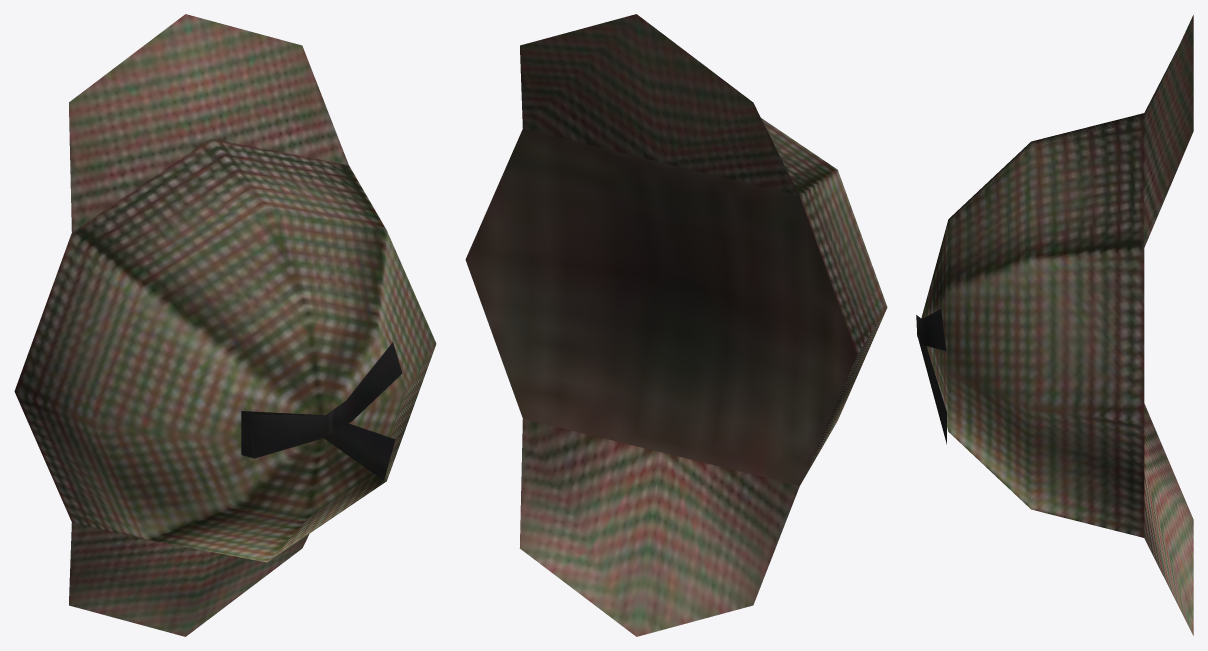
Rendered from tt_m_chr_avt_acc_hat_detective.glb.
3 renders of one model, left to right at view 1: azimuth 30°, elevation 25°; view 2: azimuth 150°, elevation 25°; view 3: azimuth 270°, elevation 25°, orthographic.
Parts seen in each view (by area): view 1: tt_m_chr_avt_acc_hat_detective; view 2: tt_m_chr_avt_acc_hat_detective; view 3: tt_m_chr_avt_acc_hat_detective.
Boxes of the visible parts, box(x1,y1,x2,y2) form: tt_m_chr_avt_acc_hat_detective: box(14, 14, 436, 636); tt_m_chr_avt_acc_hat_detective: box(465, 14, 887, 636); tt_m_chr_avt_acc_hat_detective: box(916, 15, 1193, 635).
Bounding box in the file's own units: 3.63 × 5.51 × 2.23.
Materials: 1 (1 with a texture image).
